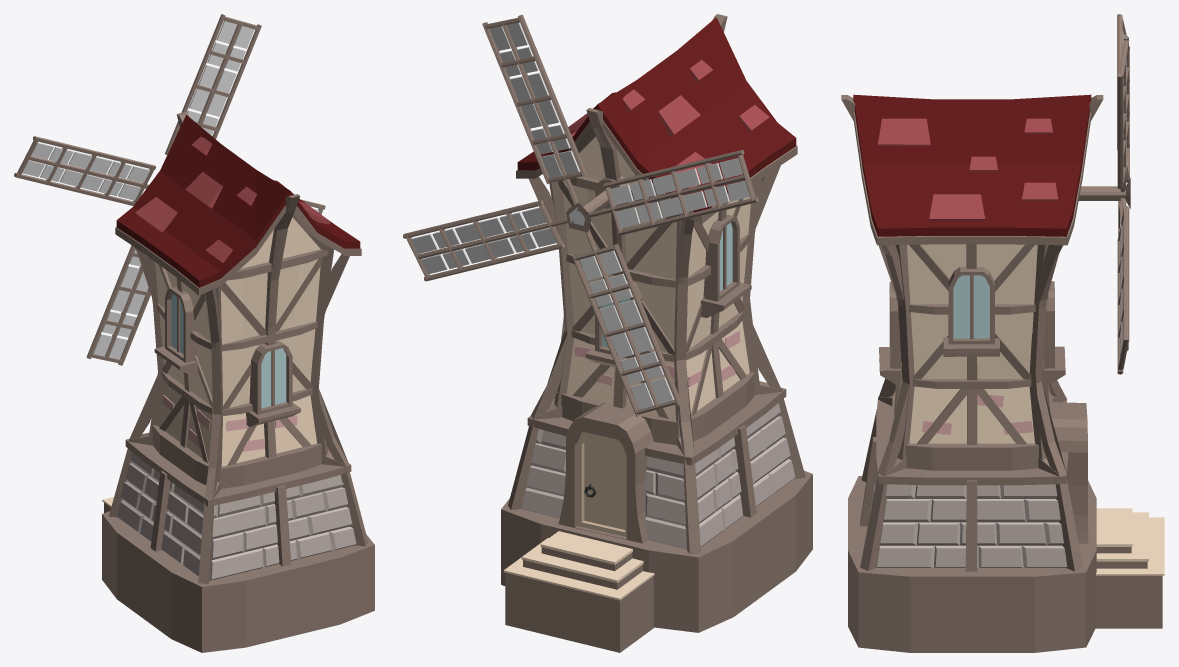
3 views of the same model, side by side, from view 1: azimuth 30°, elevation 25°; view 2: azimuth 150°, elevation 25°; view 3: azimuth 270°, elevation 25° (orthographic). The views are drawn at different scales.
Visible parts, largest first — view 1: Windmill_Base01, Windmill_Roof01, Windmill_Blades01, Windmill_Structure01, Windmill_Supports02, Windmill_Frame01, Window01.002, Windmill_Frame02, Window01, Windmill_Supports01, Windmill_Bricks01, Plane.2606; view 2: Windmill_Base01, Windmill_Blades01, Windmill_Roof01, Windmill_Stairs01, Windmill_Structure01, Door01, Windmill_Supports02, Windmill_Frame01, Window01, Windmill_Frame02, Windmill_Supports01, Window01.001 (+1 smaller); view 3: Windmill_Base01, Windmill_Roof01, Windmill_Structure01, Windmill_Supports02, Windmill_Stairs01, Windmill_Blades01, Window01.003, Door01, Windmill_Frame01, Windmill_Frame02, Window01.001, Window01.002 (+2 smaller).
Part boxes in pixels (left/top/right/bottom): Windmill_Base01: left=102, top=425, right=374, bottom=652; Windmill_Roof01: left=115, top=115, right=361, bottom=295; Windmill_Blades01: left=14, top=14, right=325, bottom=365; Windmill_Structure01: left=155, top=217, right=320, bottom=466; Windmill_Supports02: left=128, top=247, right=349, bottom=498; Windmill_Frame01: left=157, top=257, right=322, bottom=409; Window01.002: left=246, top=340, right=300, bottom=426; Windmill_Frame02: left=159, top=371, right=312, bottom=465; Window01: left=154, top=287, right=199, bottom=376; Windmill_Supports01: left=176, top=112, right=299, bottom=458; Windmill_Bricks01: left=162, top=395, right=297, bottom=451; Plane.2606: left=228, top=249, right=328, bottom=280; Windmill_Base01: left=501, top=372, right=812, bottom=632; Windmill_Blades01: left=403, top=14, right=758, bottom=416; Windmill_Roof01: left=516, top=17, right=797, bottom=223; Windmill_Stairs01: left=503, top=531, right=654, bottom=652; Windmill_Structure01: left=563, top=137, right=750, bottom=419; Door01: left=558, top=402, right=653, bottom=543; Windmill_Supports02: left=529, top=165, right=782, bottom=457; Windmill_Frame01: left=558, top=180, right=750, bottom=354; Window01: left=700, top=214, right=751, bottom=317; Windmill_Frame02: left=571, top=311, right=746, bottom=418; Windmill_Supports01: left=586, top=14, right=727, bottom=408; Window01.001: left=585, top=275, right=643, bottom=368; Windmill_Base01: left=848, top=389, right=1096, bottom=652; Windmill_Roof01: left=853, top=94, right=1091, bottom=245; Windmill_Structure01: left=907, top=244, right=1037, bottom=443; Windmill_Supports02: left=877, top=245, right=1066, bottom=476; Windmill_Stairs01: left=1095, top=508, right=1164, bottom=628; Windmill_Blades01: left=1078, top=14, right=1130, bottom=374; Window01.003: left=943, top=267, right=999, bottom=356; Door01: left=1049, top=402, right=1088, bottom=543; Windmill_Frame01: left=896, top=244, right=1048, bottom=380; Windmill_Frame02: left=901, top=361, right=1043, bottom=444; Window01.001: left=1042, top=281, right=1065, bottom=386; Window01.002: left=879, top=281, right=901, bottom=386.
Bounding box in the file's own units: 2159 × 3465 × 1709.
